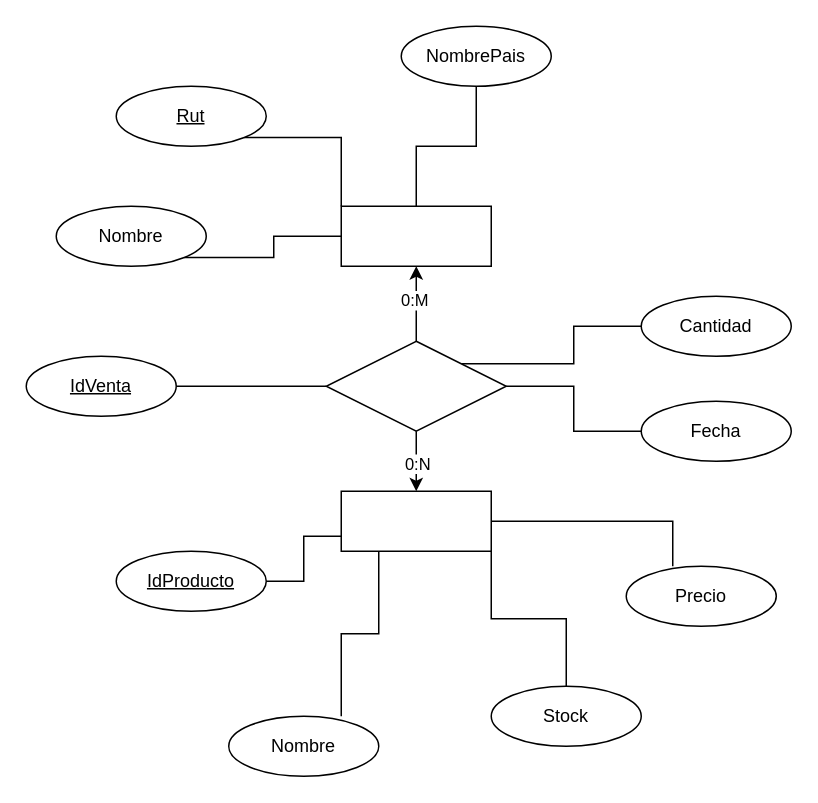
This 818x803 diagram has some shape labels left out. The centre of each missing label's shape, as x and y in pixels:
"Client" belongs at pixel 415 235.
"Product" belongs at pixel 415 520.
"sell" belongs at pixel 415 385.
